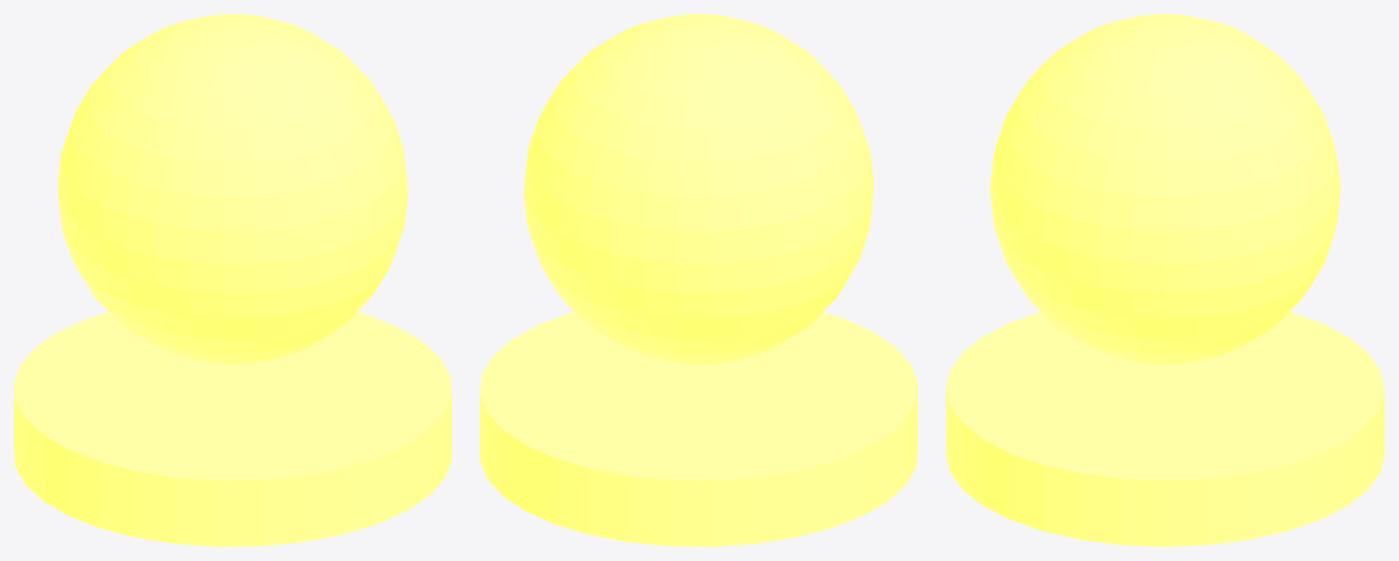
File: golden_idol.glb
3 views of the same model, side by side, from view 1: azimuth 30°, elevation 25°; view 2: azimuth 150°, elevation 25°; view 3: azimuth 270°, elevation 25° (orthographic).
Visible parts, largest first — view 1: IdolBody, Cilindro; view 2: IdolBody, Cilindro; view 3: IdolBody, Cilindro.
Part boxes in pixels (box(x1,y1,x2,y2)): IdolBody: box(58, 14, 407, 364); Cilindro: box(14, 312, 451, 546); IdolBody: box(524, 14, 873, 364); Cilindro: box(480, 312, 917, 546); IdolBody: box(990, 14, 1340, 364); Cilindro: box(946, 312, 1384, 546).
Bounding box in the file's own units: 0.3 × 0.32 × 0.3.
